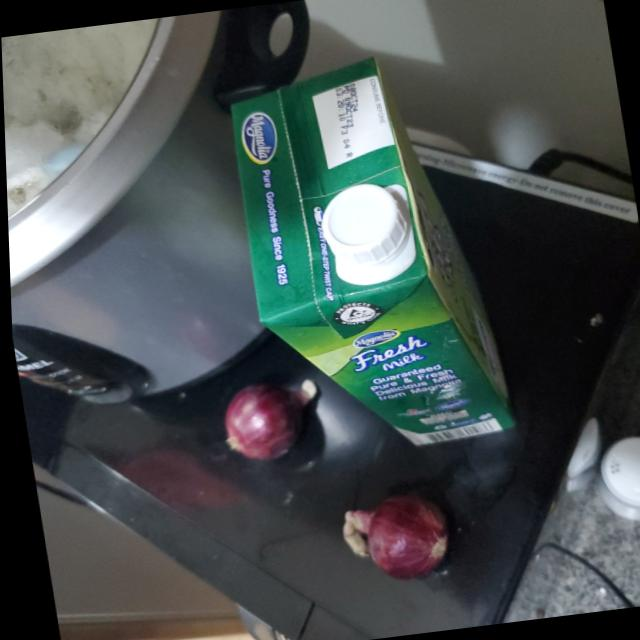milk: (215, 48, 523, 466)
onion: (212, 377, 330, 469), (338, 486, 453, 580)
